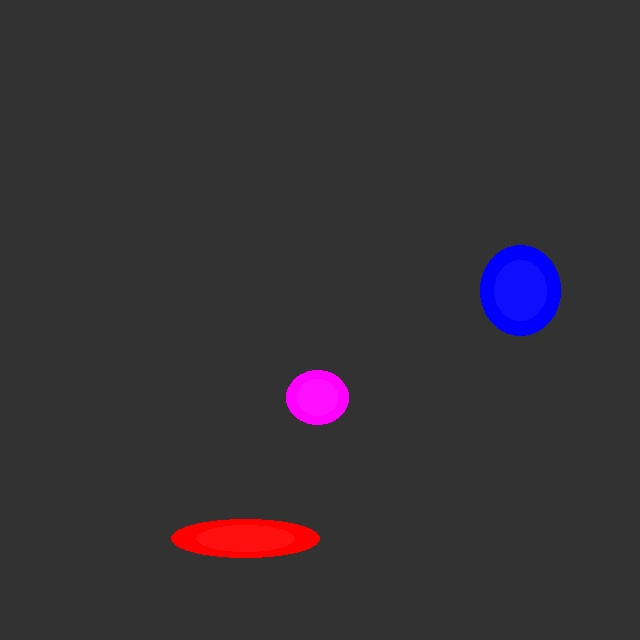fish: (480, 245, 560, 335), (171, 519, 319, 557), (286, 370, 348, 425)
